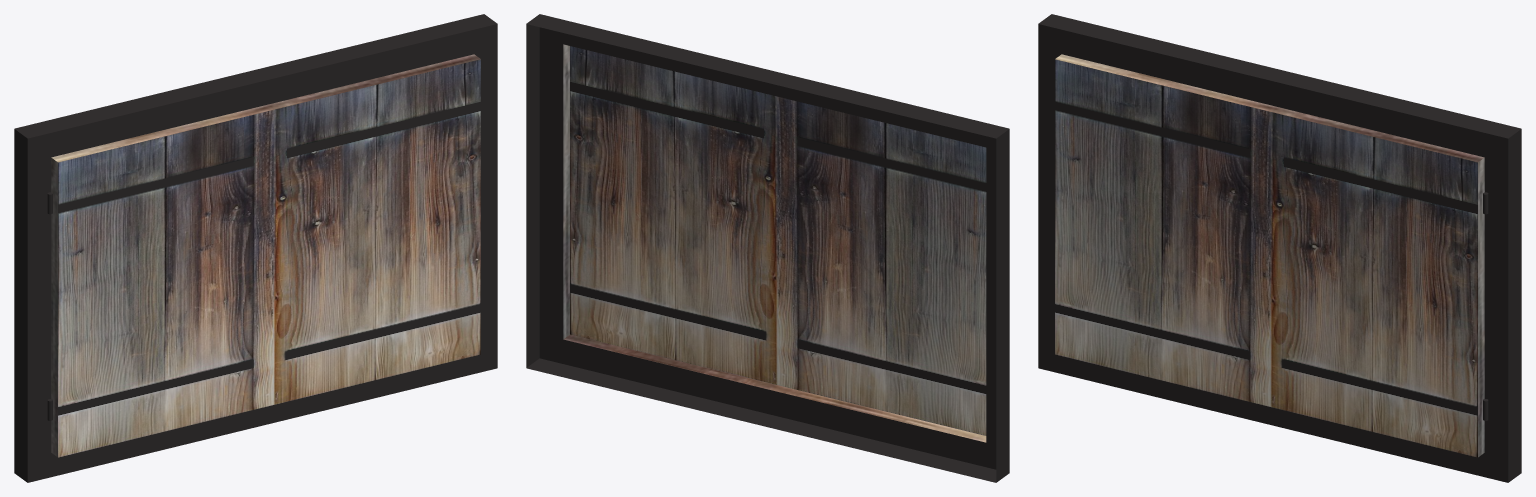
Rendered from fenetre_volet_ferme.fbx.
The picture shows the model from 3 angles, left to right: view 1: azimuth 30°, elevation 25°; view 2: azimuth 150°, elevation 25°; view 3: azimuth 330°, elevation 25°; orthographic projection.
Visible parts, largest first — view 1: fenetre; view 2: fenetre; view 3: fenetre.
Boxes of the visible parts, x1,y1,x2,y2 form: fenetre: (14, 14, 497, 482); fenetre: (526, 14, 1009, 482); fenetre: (1038, 14, 1521, 482).
Size of the model in its own units: 10 by 7 by 0.75.
1 material, 1 textured.
